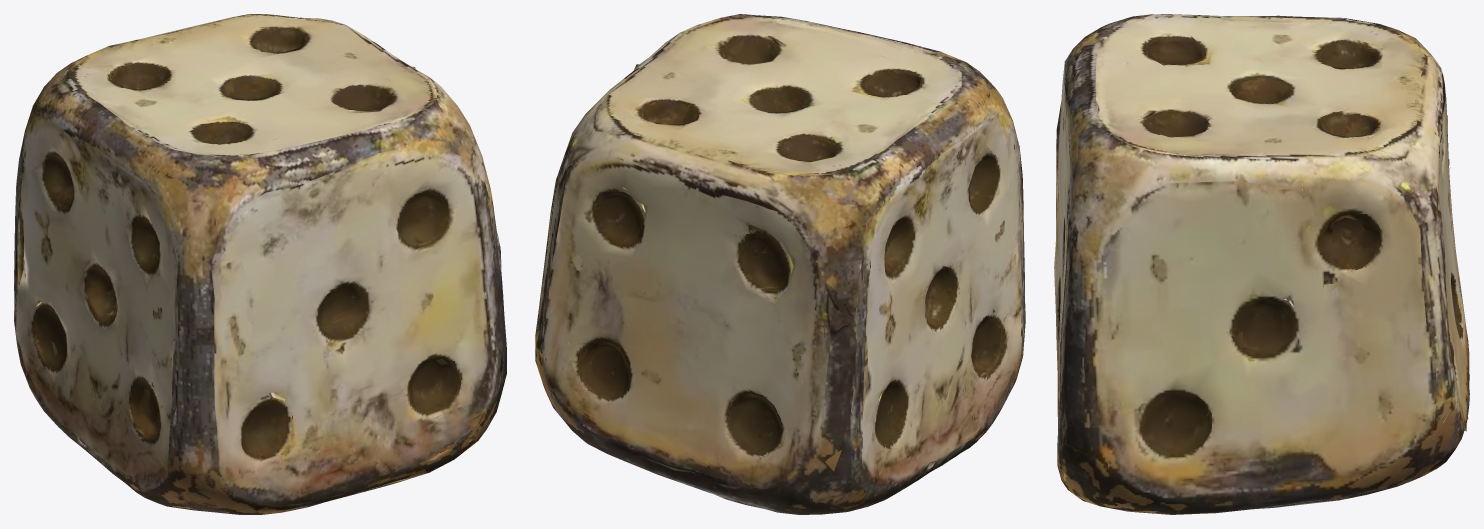
Rendered from die.glb.
3 views of the same model, side by side, from view 1: azimuth 30°, elevation 25°; view 2: azimuth 150°, elevation 25°; view 3: azimuth 270°, elevation 25° (orthographic). The views are drawn at different scales.
Parts seen in each view (by area): view 1: geometry_0; view 2: geometry_0; view 3: geometry_0.
Part boxes in pixels (<box>): geometry_0: <box>14,14,506,514</box>; geometry_0: <box>535,14,1025,514</box>; geometry_0: <box>1054,14,1469,514</box>.
Size of the model in its own units: 0.6827 by 0.6825 by 0.6904.
Materials: 1 (1 with a texture image).
